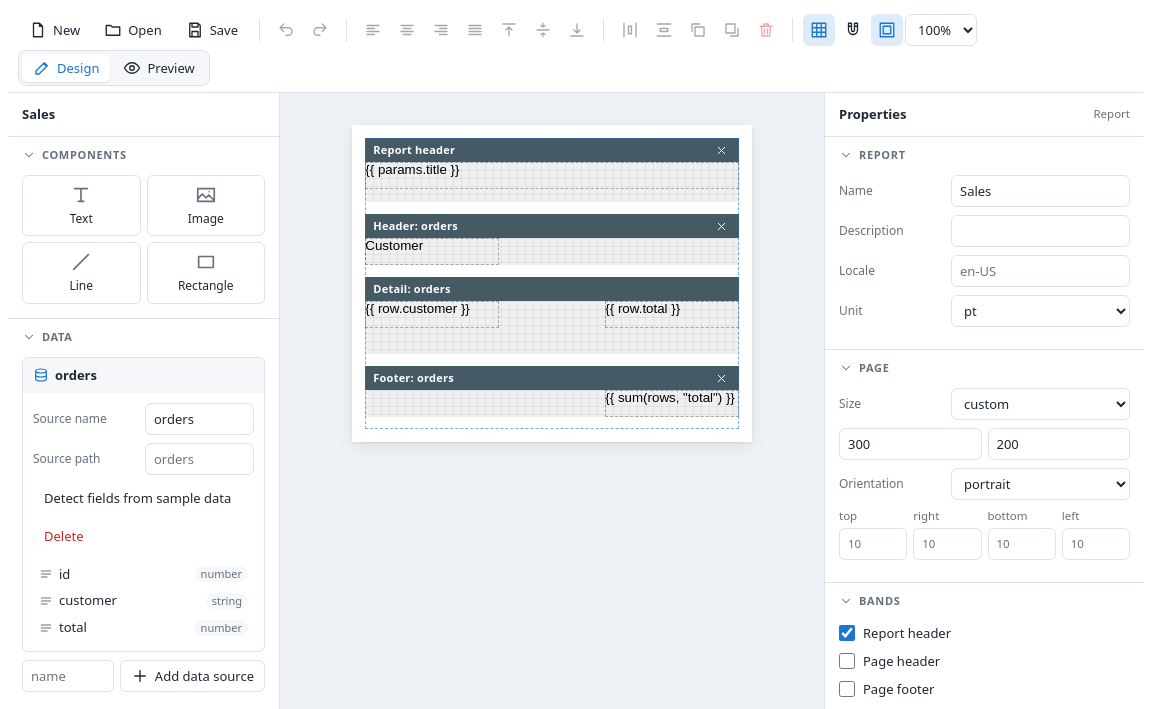
it: ReportDesigner: properties › shows report settings when nothing is selected and edits them
This screenshot has width=1152, height=709.
Replace the text in the field labelled "Name" with "Quarterly". click: [1040, 191]
box: [951,175,1130,207]
Then press Enter
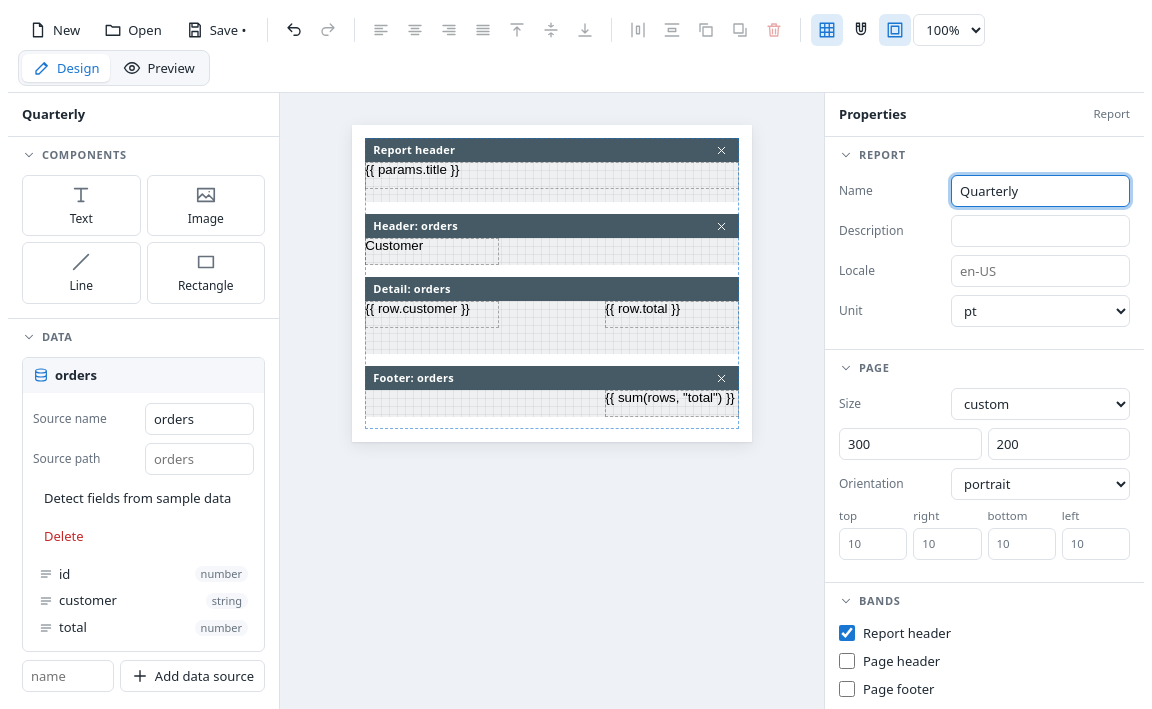
Now the text "Quarterly" is shown, box [8,93,279,137]
Select "landscape" in the dropdown labelled "Orientation". click: [1040, 484]
box: [951,468,1130,500]
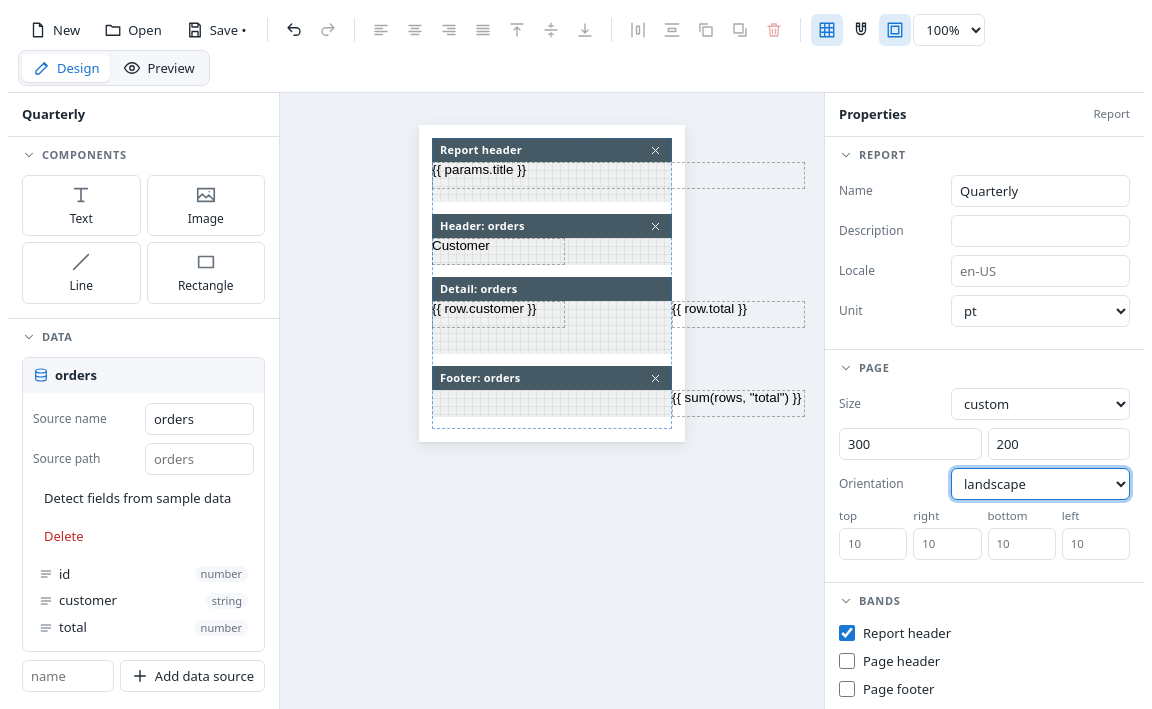
Select "mm" in the dropdown labelled "Unit". click: [1040, 311]
box: [951,295,1130,327]
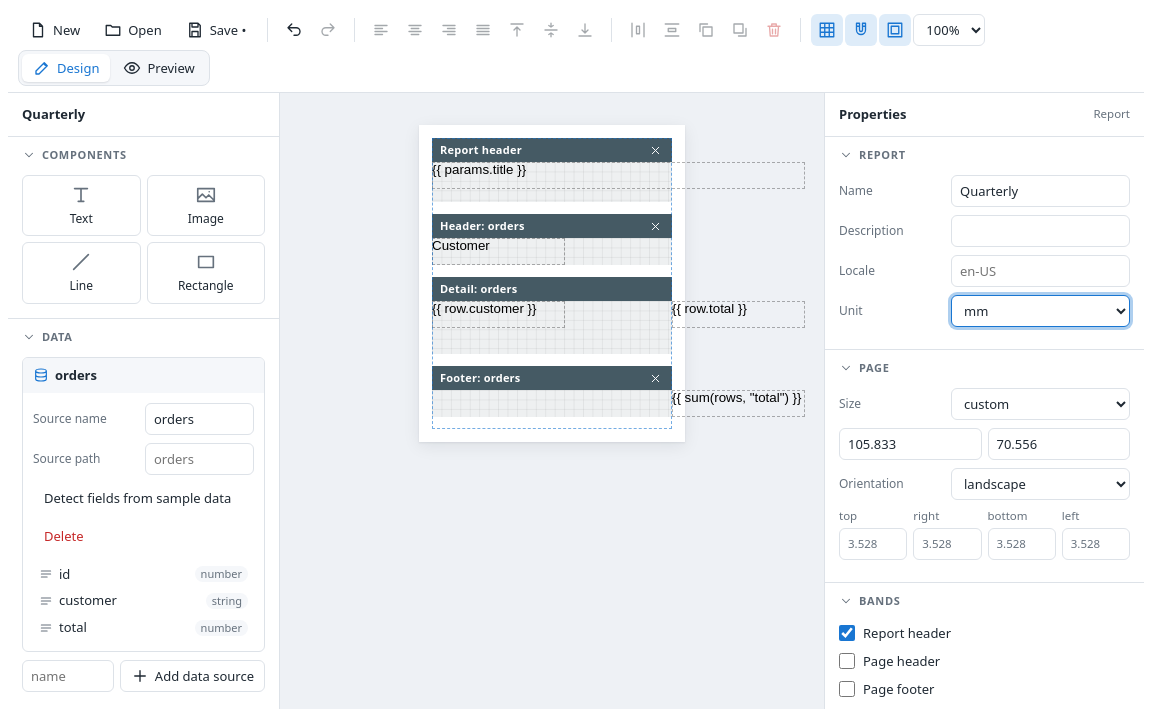
Click the checkbox labelled "Page footer". click: [847, 690]
box: [839,682,855,698]
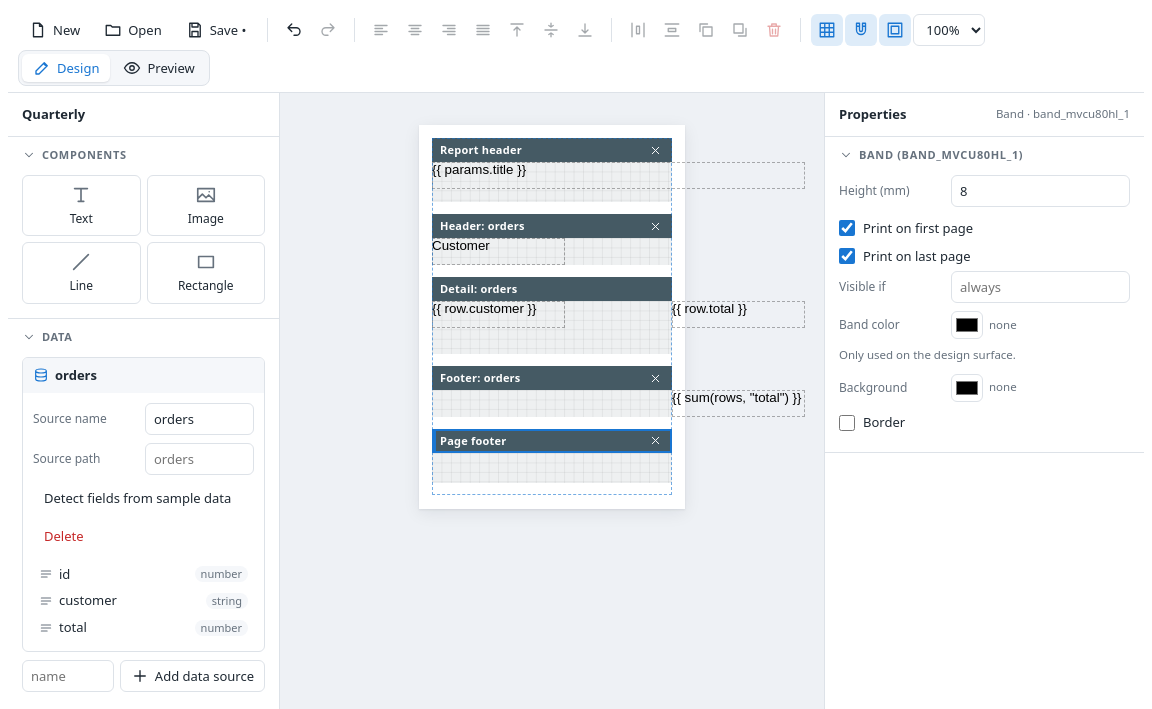
Now the text "Band (" is shown, box [859,147,1023,162]
